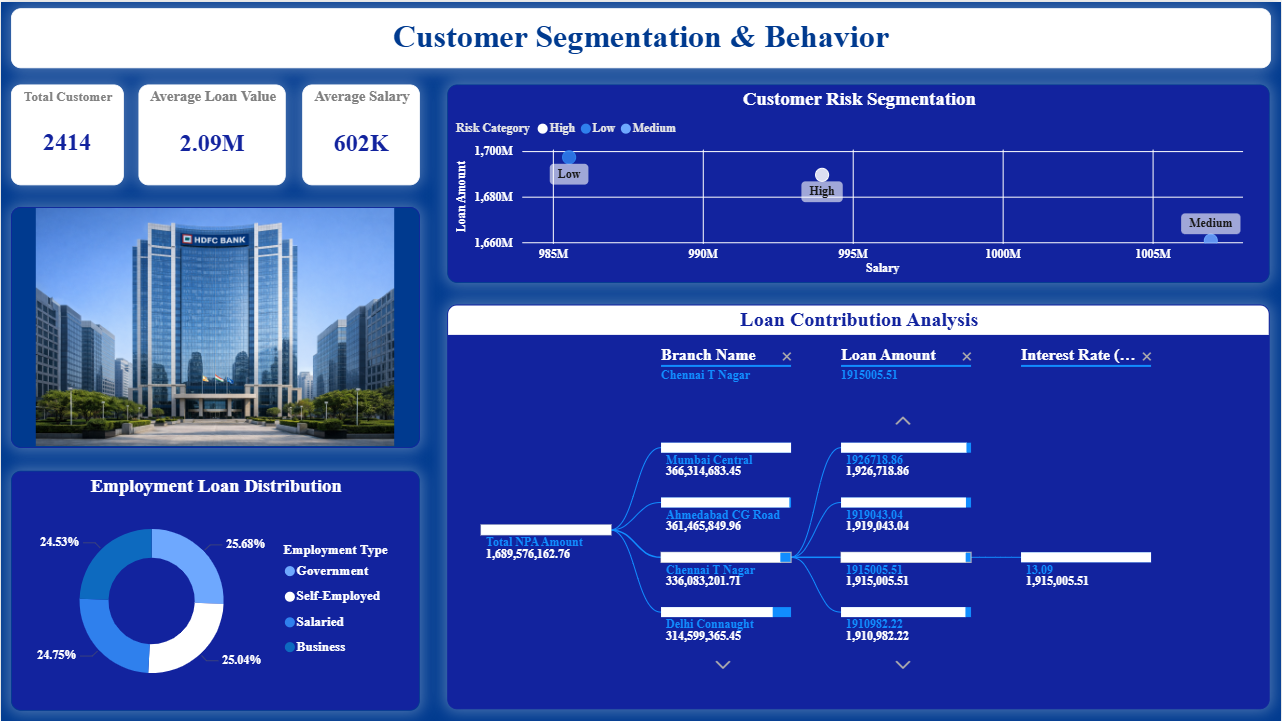

The dashboard page shown, as its layout file describes it:
{"tool":"powerbi","page":{"name":"Customer Loan Behavior & Segmentation Analysis","canvas":[1280,720],"ordinal":2},"visuals":[{"type":"textbox","box":[10,6.2,1260,60],"z":0},{"type":"card","title":"Total Customer","fields":{"Values":["Date Table.Total Custome"]},"box":[10,82.2,112.6,100.4],"z":1000},{"type":"card","title":"Average Loan Value","fields":{"Values":["Date Table.Average Loan Per Customer"]},"box":[137,82.2,147.4,100.4],"z":2000},{"type":"card","title":"Average Salary ","fields":{"Values":["Date Table.Average Salary"]},"box":[300.9,82.2,117.8,100.4],"z":3000},{"type":"scatterChart","title":"Customer Risk Segmentation","fields":{"Series":["Dim_Risk.Risk Category"],"Size":["Sum(Dim_Risk.Loan Amount)"],"X":["Sum(Fact_Transactions.Salary)"],"Y":["Sum(Dim_Risk.Loan Amount)"]},"box":[446.2,82.5,822.5,198.8],"z":4000},{"type":"donutChart","title":"Employment Loan Distribution","fields":{"Category":["Fact_Transactions.Employment Type"],"Y":["Sum(Dim_Risk.Loan Amount)"]},"box":[10,468.7,408.7,240],"z":5000},{"type":"decompositionTreeVisual","title":"Loan Contribution Analysis","fields":{"Analyze":["Date Table.Total NPA Amount"],"ExplainBy":["Dim_Branch.Branch Name","Dim_Risk.Loan Amount","Fact_Transactions.Interest Rate (%)"]},"box":[446.2,302.5,822.5,405],"z":6000},{"type":"image","box":[10,205.3,408.7,240.7],"z":6001}]}

Visuals, with their boxes in screenshot pixels (x1, y1, x2, y2), scaled from the page's 1280x720 canvas onto the 1282x721 screenshot:
textbox: 10, 6, 1272, 66
"Total Customer" card: 10, 82, 123, 183
"Average Loan Value" card: 137, 82, 285, 183
"Average Salary " card: 301, 82, 419, 183
"Customer Risk Segmentation" scatterChart: 447, 83, 1271, 282
"Employment Loan Distribution" donutChart: 10, 469, 419, 710
"Loan Contribution Analysis" decompositionTreeVisual: 447, 303, 1271, 708
image: 10, 206, 419, 447
